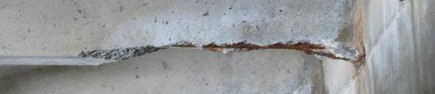Exposed reinforcement: (171, 41, 327, 50), (303, 50, 351, 62)
Spalling: (77, 40, 367, 70)
